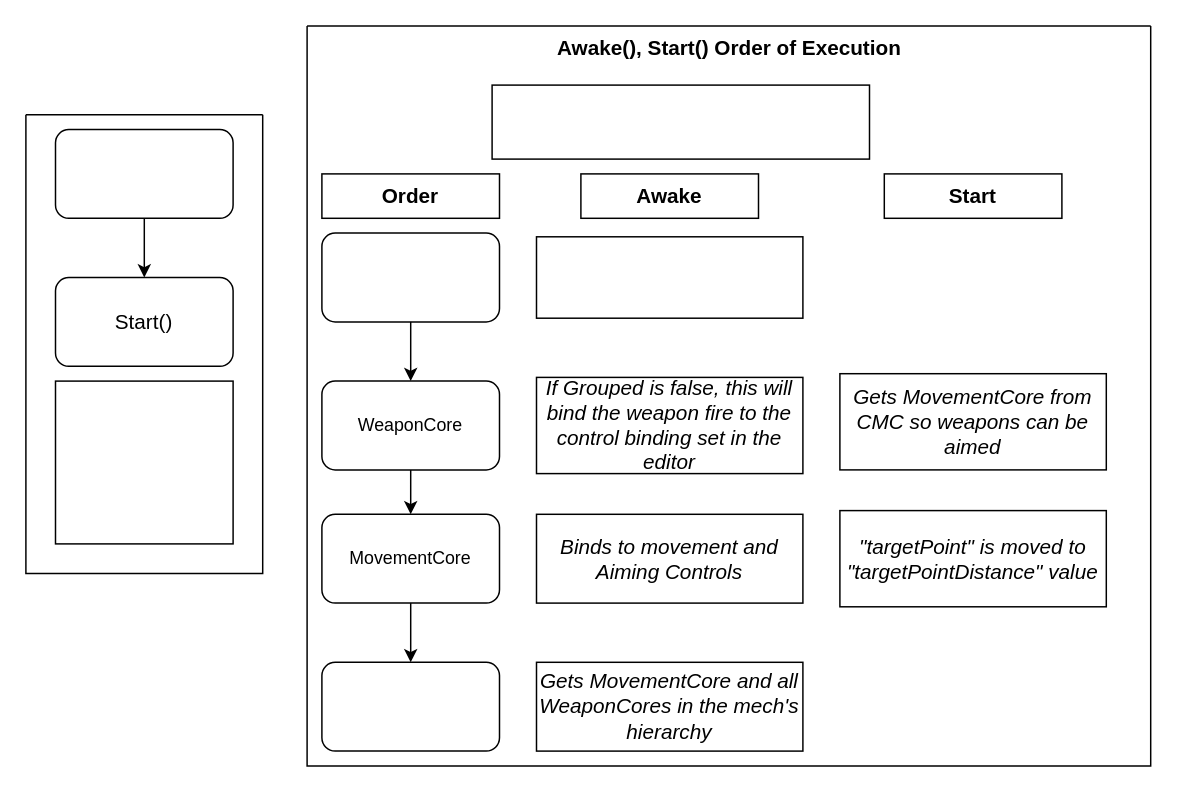
The diagram is 1177 pixels wide and 792 high, and some of its shapes have lost their labels. The shapes that lost their labels are listed below. From the top down, each one's centre as x and y in pixels, then its label:
[680,121]: In Awake, each of these components gets the Central Mech Component (CMC)
[143,173]: Awake()
[410,277]: WeaponGroup
[669,276]: Sets "Grouped" to true in all weapons assigned to the group
[143,462]: All Awakes are called, then all Starts are called.
[410,706]: CMC
